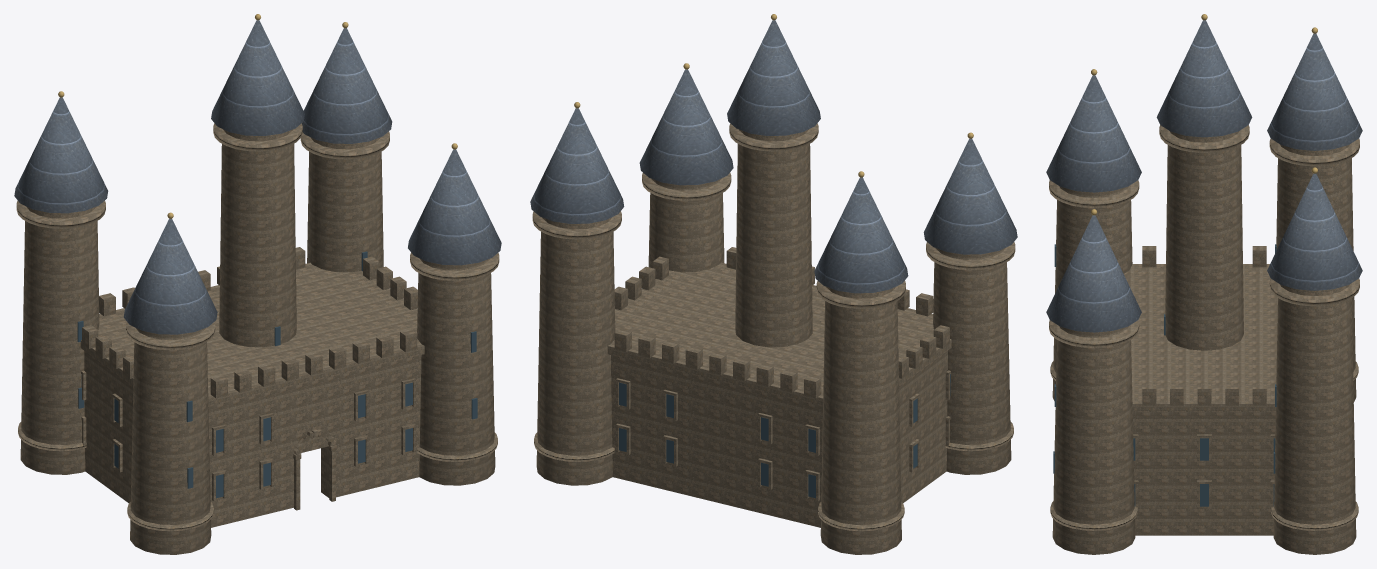
Rendered from keep.glb.
3 renders of one model, left to right at view 1: azimuth 30°, elevation 25°; view 2: azimuth 150°, elevation 25°; view 3: azimuth 270°, elevation 25°, orthographic.
Parts seen in each view (by area): view 1: keep; view 2: keep; view 3: keep.
Part boxes in pixels (x1,y1,x2,y2): keep: [14, 14, 501, 554]; keep: [530, 14, 1017, 554]; keep: [1046, 14, 1362, 554].
Size of the model in its own units: 46.4 by 54.35 by 34.4.
Materials: 5 (3 with a texture image).
